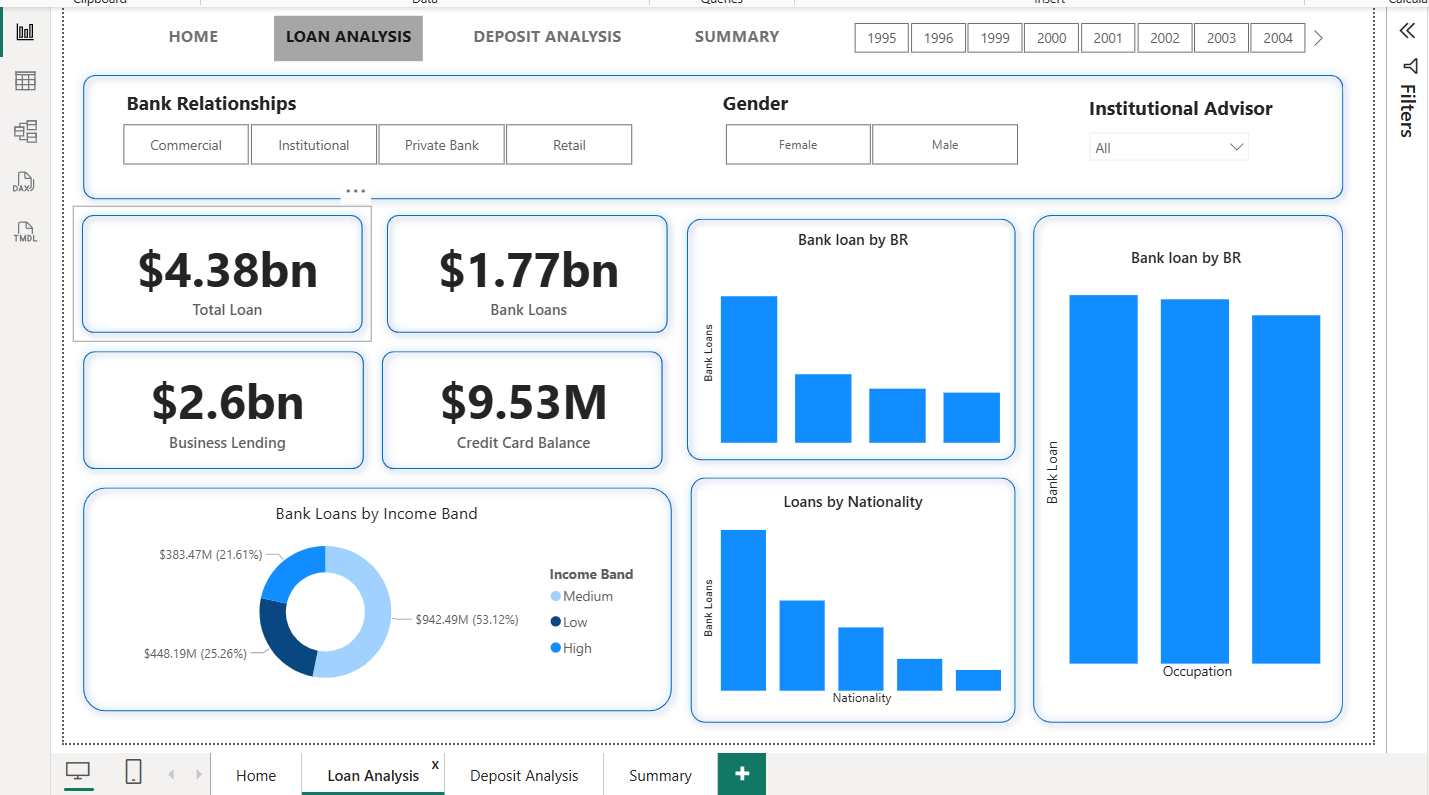

The dashboard page shown, as its layout file describes it:
{"tool":"powerbi","page":{"name":"Loan Analysis","canvas":[1280,720],"ordinal":1},"visuals":[{"type":"shape","box":[9.9,58,1250.6,139.5],"z":0},{"type":"shape","box":[8.6,193.8,292.6,133.3],"z":1000},{"type":"shape","box":[9.9,460.5,593.8,237],"z":2000},{"type":"shape","box":[600,197.5,339.5,254.3],"z":3000},{"type":"shape","box":[302.5,327.2,292.6,133.3],"z":4000},{"type":"shape","box":[9.9,327.2,292.6,133.3],"z":5000},{"type":"shape","box":[307.4,193.8,292.6,133.3],"z":6000},{"type":"shape","box":[603.7,450.6,335.8,258],"z":7000},{"type":"shape","box":[939.5,193.8,321,514.8],"z":8000},{"type":"textbox","box":[80.2,12.3,91.4,39.5],"z":9000},{"type":"textbox","box":[191.8,12.3,172.8,40.7],"z":10000},{"type":"textbox","box":[378.6,12.3,187.7,40.7],"z":11000},{"type":"textbox","box":[580.2,12.3,155.6,40.7],"z":12000},{"type":"card","fields":{"Values":["measures (2).total loan"]},"box":[43.2,214.8,234.6,98.8],"z":13000},{"type":"card","fields":{"Values":["Sum(banking_case customer.Credit Card Balance)"]},"box":[332.1,344.4,234.6,98.8],"z":14000},{"type":"card","fields":{"Values":["Sum(banking_case customer.Business Lending)"]},"box":[43.2,344.4,234.6,98.8],"z":15000},{"type":"card","fields":{"Values":["Sum(banking_case customer.Bank Loans)"]},"box":[337,214.8,234.6,98.8],"z":16000},{"type":"clusteredColumnChart","title":"Bank loan  by BR","fields":{"Y":["Sum(banking_case customer.Bank Loans)"],"Category":["banking_case customer.BRId"]},"box":[619.8,216,303.7,216],"z":17000},{"type":"donutChart","title":"Bank Loans by Income Band","fields":{"Category":["banking_case customer.Income Band"],"Y":["Sum(banking_case customer.Bank Loans)"]},"box":[32.1,482.7,548.1,196.3],"z":18000},{"type":"clusteredColumnChart","title":"Loans by Nationality","fields":{"Category":["banking_case customer.Nationality"],"Y":["Sum(banking_case customer.Bank Loans)"]},"box":[619.8,472.8,303.7,214.8],"z":19000},{"type":"clusteredColumnChart","title":"Bank loan  by BR","fields":{"Y":["Sum(banking_case customer.Bank Loans)"],"Category":["banking_case customer.Occupation"]},"box":[956.8,234.6,282.7,428.4],"z":20000},{"type":"actionButton","box":[384,9.9,187.7,44.4],"z":21000},{"type":"actionButton","box":[204.9,8.6,145.7,44.4],"z":22000},{"type":"actionButton","box":[580.2,8.6,145.7,44.4],"z":23000},{"type":"actionButton","box":[53.1,8.6,145.7,44.4],"z":24000},{"type":"slicer","fields":{"Values":["banking_case customer.Year"]},"box":[746.9,8.6,491.4,43.2],"z":25000},{"type":"slicer","fields":{"Values":["banking_case customer.GenderId"]},"box":[621,107.4,335.8,53.1],"z":26000},{"type":"slicer","fields":{"Values":["banking_case customer.BRId"]},"box":[32.1,107.4,548.1,53.1],"z":27000},{"type":"textbox","box":[56.8,75.3,193.8,43.2],"z":28000},{"type":"textbox","box":[639.5,75.3,121,42],"z":29000},{"type":"slicer","fields":{"Values":["banking_case customer.IAId"]},"box":[992.6,112.3,176.5,45.7],"z":30000},{"type":"textbox","box":[997.5,80.2,202.5,38.3],"z":31000}]}

Visuals, with their boxes on the page's 1280x720 design canvas (x1, y1, x2, y2). These are canvas units, not pixel positions in the 1429x795 screenshot, which may show the page scaled, cropped or inside an application window:
shape: region(10, 58, 1260, 198)
shape: region(9, 194, 301, 327)
shape: region(10, 460, 604, 698)
shape: region(600, 198, 940, 452)
shape: region(302, 327, 595, 460)
shape: region(10, 327, 302, 460)
shape: region(307, 194, 600, 327)
shape: region(604, 451, 940, 709)
shape: region(940, 194, 1260, 709)
textbox: region(80, 12, 172, 52)
textbox: region(192, 12, 365, 53)
textbox: region(379, 12, 566, 53)
textbox: region(580, 12, 736, 53)
card - measures (2).total loan: region(43, 215, 278, 314)
card - Sum(banking_case customer.Credit Card Balance): region(332, 344, 567, 443)
card - Sum(banking_case customer.Business Lending): region(43, 344, 278, 443)
card - Sum(banking_case customer.Bank Loans): region(337, 215, 572, 314)
"Bank loan  by BR" clusteredColumnChart: region(620, 216, 924, 432)
"Bank Loans by Income Band" donutChart: region(32, 483, 580, 679)
"Loans by Nationality" clusteredColumnChart: region(620, 473, 924, 688)
"Bank loan  by BR" clusteredColumnChart: region(957, 235, 1240, 663)
actionButton: region(384, 10, 572, 54)
actionButton: region(205, 9, 351, 53)
actionButton: region(580, 9, 726, 53)
actionButton: region(53, 9, 199, 53)
slicer - banking_case customer.Year: region(747, 9, 1238, 52)
slicer - banking_case customer.GenderId: region(621, 107, 957, 160)
slicer - banking_case customer.BRId: region(32, 107, 580, 160)
textbox: region(57, 75, 251, 118)
textbox: region(640, 75, 760, 117)
slicer - banking_case customer.IAId: region(993, 112, 1169, 158)
textbox: region(998, 80, 1200, 118)
